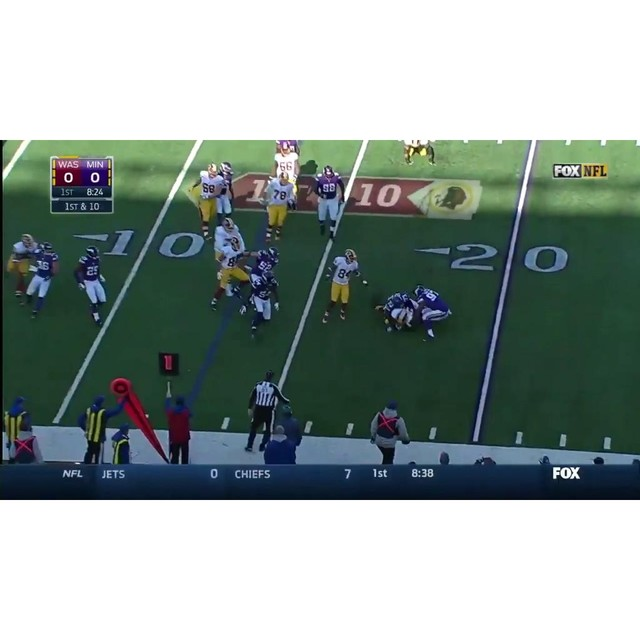american-football-player: (323, 248, 366, 323), (209, 237, 250, 312), (72, 246, 109, 325), (188, 163, 224, 241), (25, 243, 61, 318), (311, 164, 346, 241), (262, 170, 298, 240), (245, 270, 279, 340), (413, 284, 451, 341), (6, 233, 36, 298), (271, 140, 301, 192), (404, 140, 435, 167)
referee: (243, 370, 289, 456)
